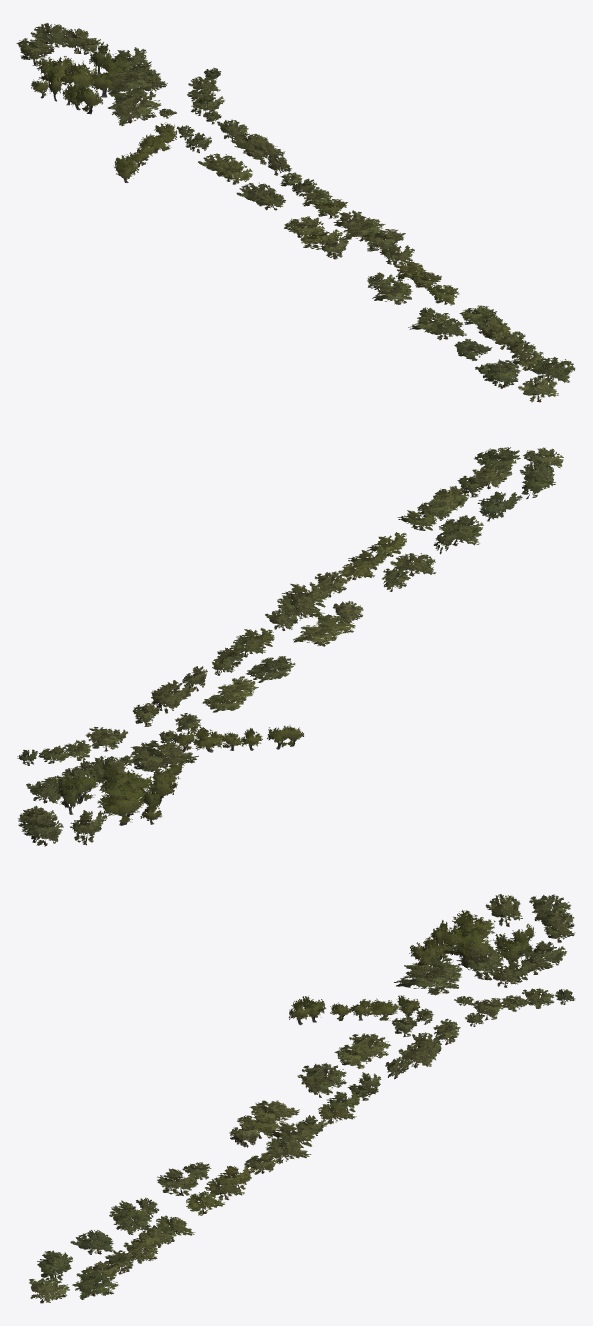
3 views of the same model, one above another, from view 1: azimuth 30°, elevation 25°; view 2: azimuth 150°, elevation 25°; view 3: azimuth 330°, elevation 25° (orthographic). The views are drawn at different scales.
Parts seen in each view (by area): view 1: object 1; view 2: object 1; view 3: object 1.
Boxes of the visible parts, <box> form: object 1: <box>16,23,575,402</box>; object 1: <box>17,447,563,845</box>; object 1: <box>29,894,575,1302</box>.
Bounding box in the file's own units: 110 × 17.61 × 502.
Materials: 3 (3 with a texture image).
